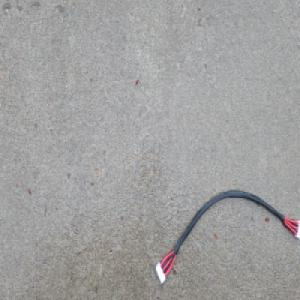Wire: (154, 188, 300, 285)
